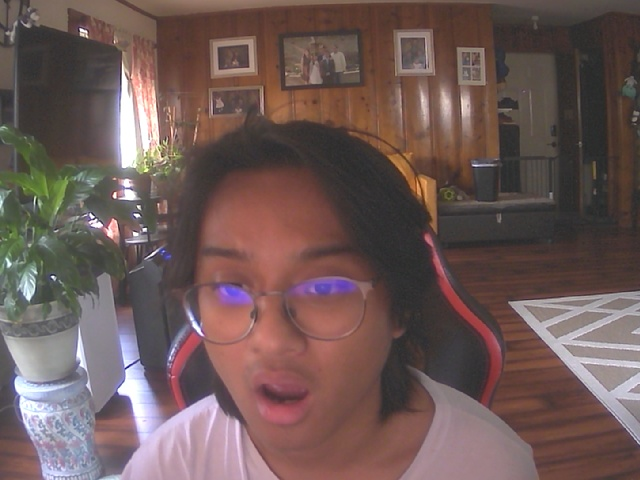fear: (169, 129, 431, 457)
